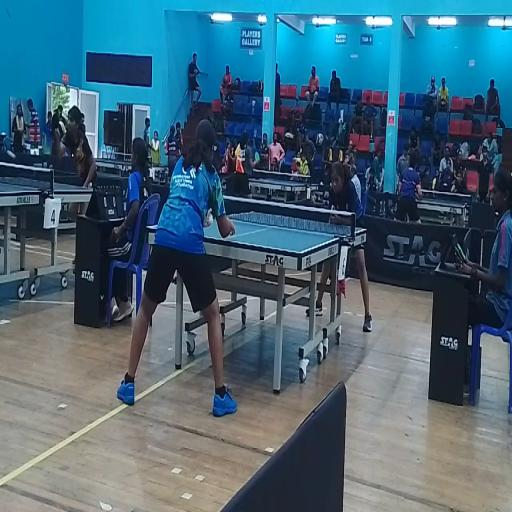ball: (207, 214, 213, 224)
